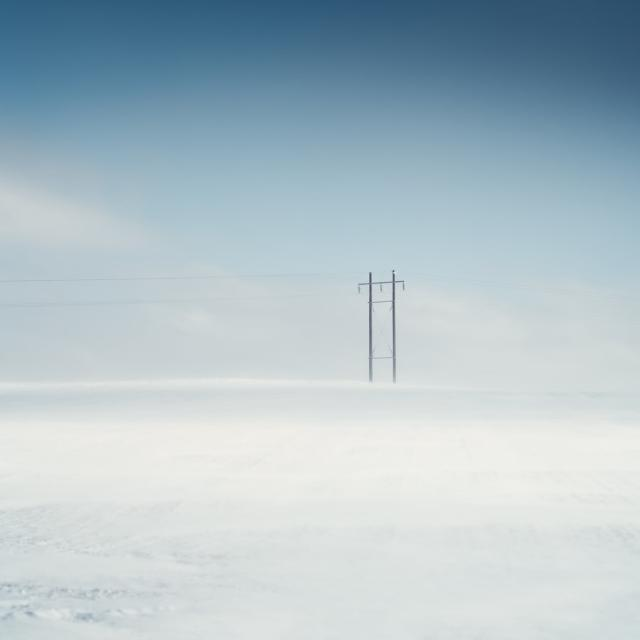transmission tower: (304, 250, 426, 358)
